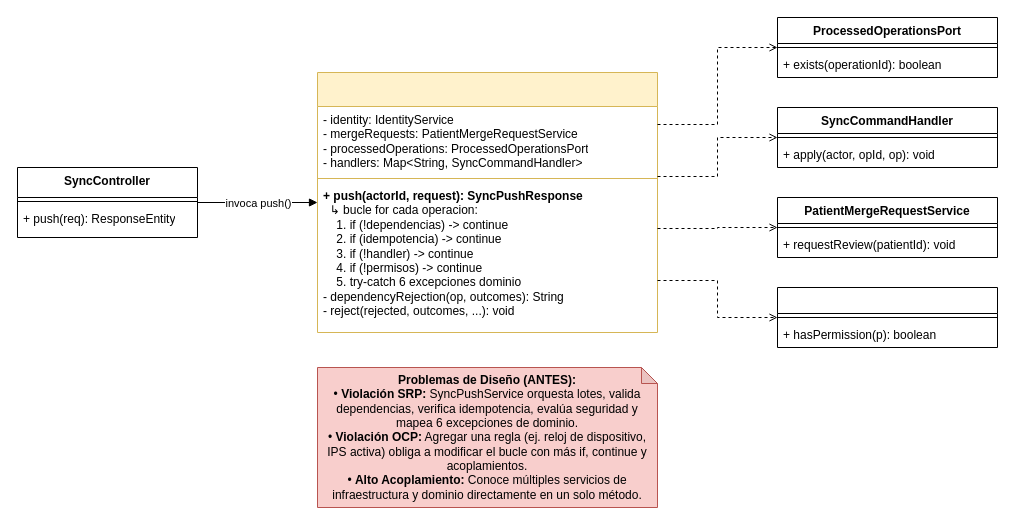
Some shapes in this 1015 by 525 pixel diagram are drawn without their labels. Here are the shapes that lost their labels. From the top down, the box of each, then its label:
(316, 72, 658, 332): SyncPushService (Monolito ANTES)
(776, 286, 998, 348): AuthorizedUser
